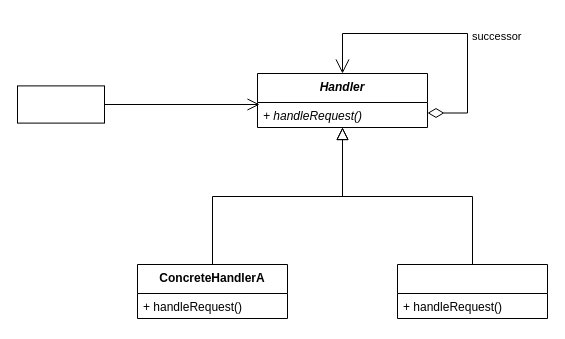
The diagram is 565 pixels wide and 339 high, and some of its shapes have lost their labels. The box of each missing label's shape, as (x1, y1, x2, y2) in pixels:
Client: (16, 85, 104, 123)
ConcreteHandlerB: (396, 264, 548, 318)
